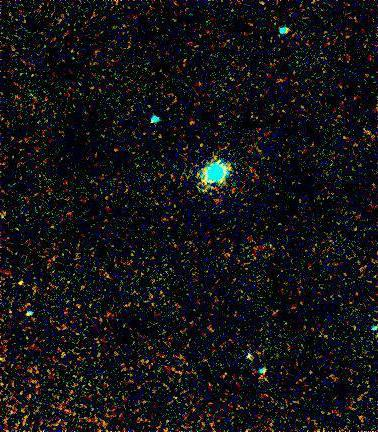star: (187, 171, 217, 201)
